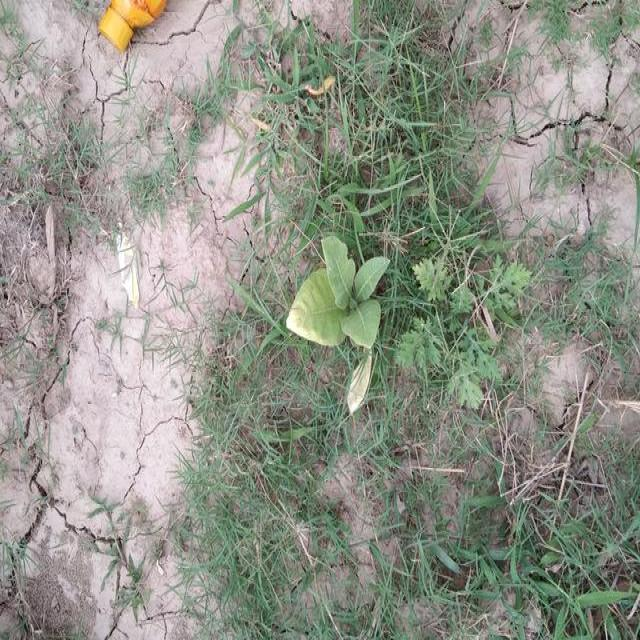crop: (289, 228, 396, 365)
